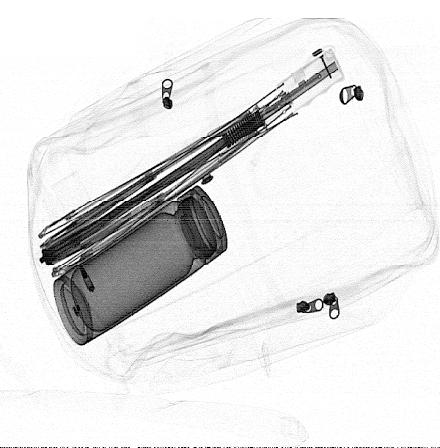Bullet: (78, 262, 95, 292)
